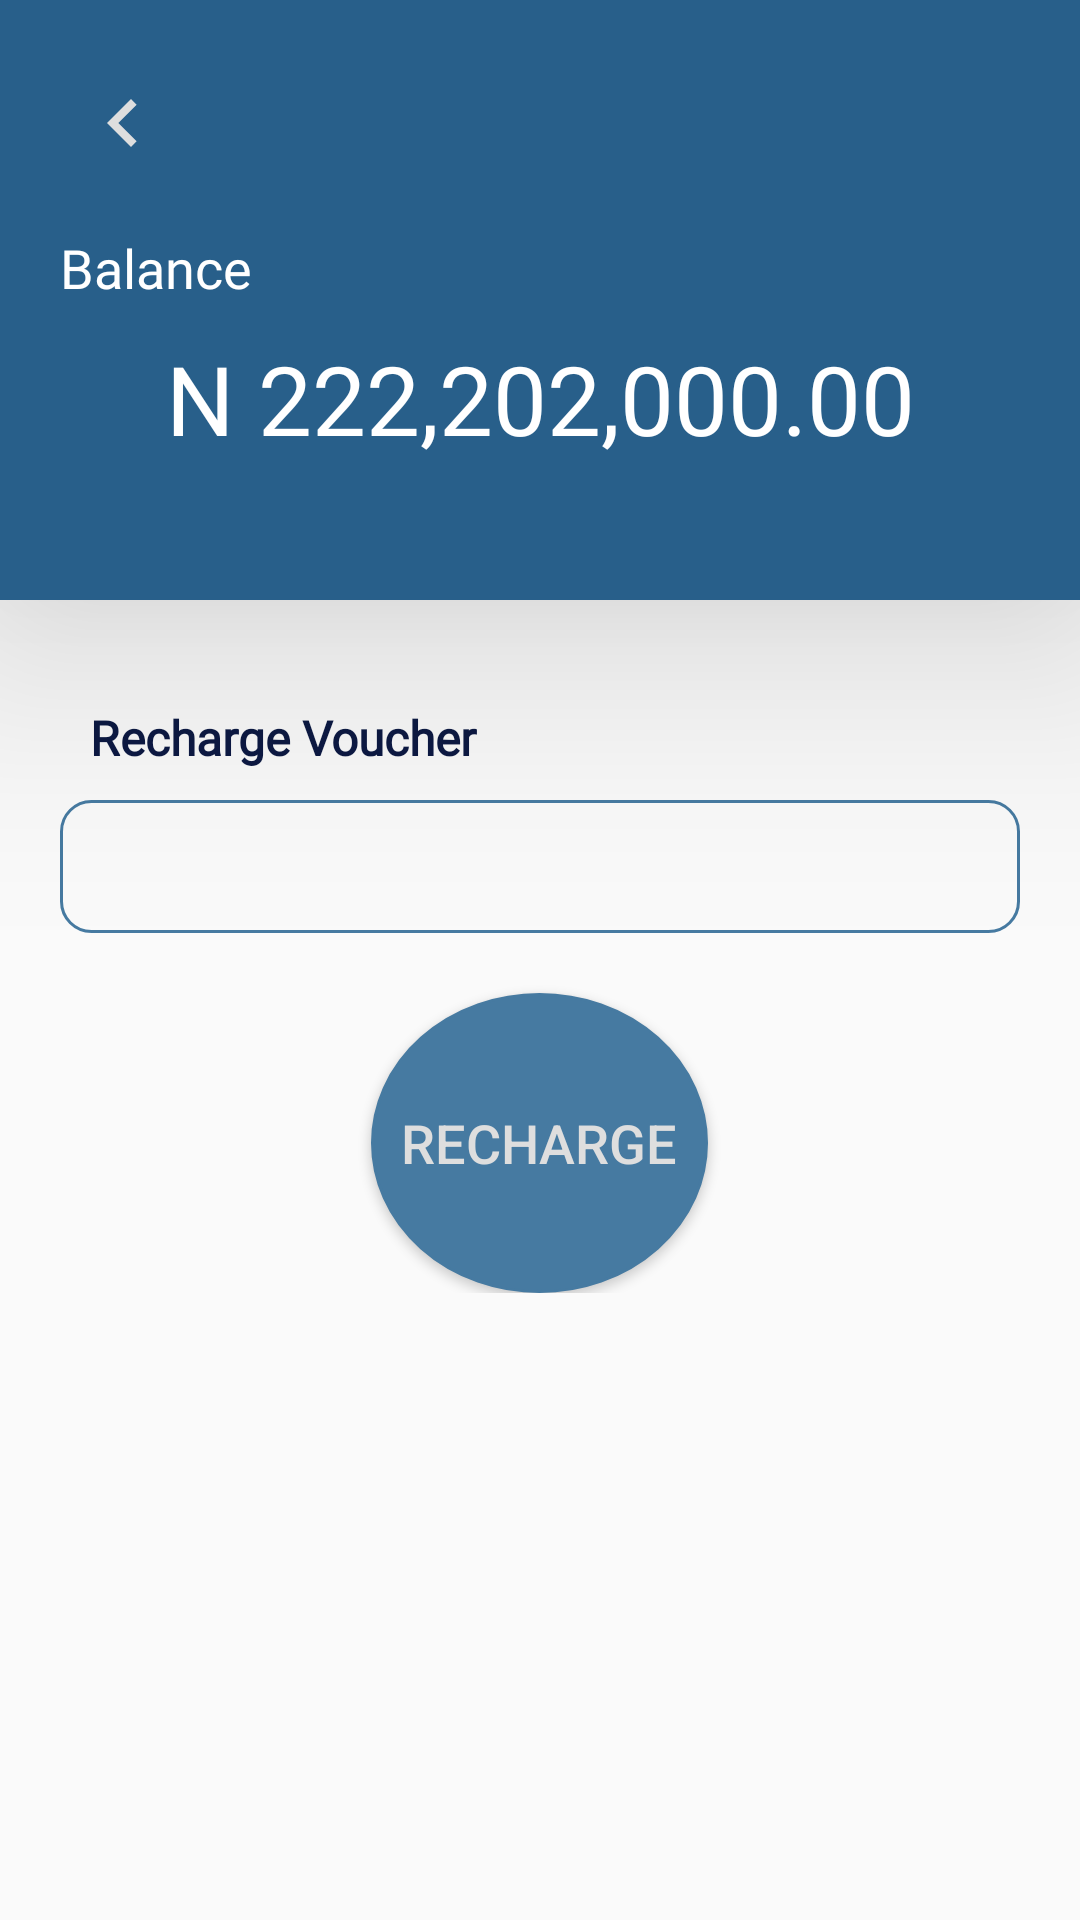

Icons on this 1080*1920 Android screen, each with the point to tap as [x,y]:
back: [122,123]
